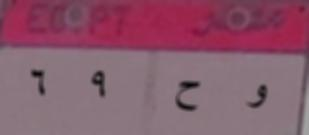6: (15, 59, 59, 108)
7aa: (169, 73, 207, 120)
9: (79, 61, 122, 108)
waw: (239, 79, 273, 118)
